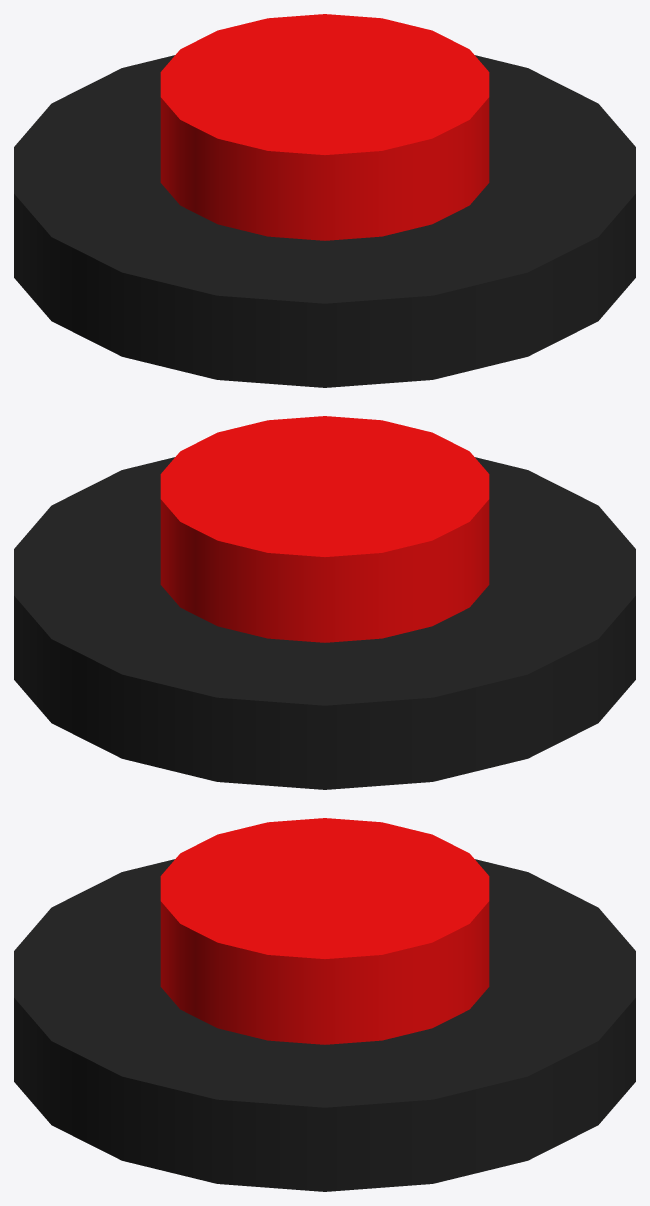
Rendered from Button.fbx.
3 renders of one model, top to bottom at view 1: azimuth 30°, elevation 25°; view 2: azimuth 150°, elevation 25°; view 3: azimuth 270°, elevation 25°, orthographic.
Visible parts, largest first — view 1: Cylinder001, Cylinder002; view 2: Cylinder001, Cylinder002; view 3: Cylinder001, Cylinder002.
Part boxes in pixels (<box>): Cylinder001: <box>14,55,635,387</box>; Cylinder002: <box>160,14,489,240</box>; Cylinder001: <box>14,457,635,789</box>; Cylinder002: <box>160,416,489,642</box>; Cylinder001: <box>14,859,635,1191</box>; Cylinder002: <box>160,818,489,1044</box>.
Bounding box in the file's own units: 81.8 × 24.28 × 80.55.
